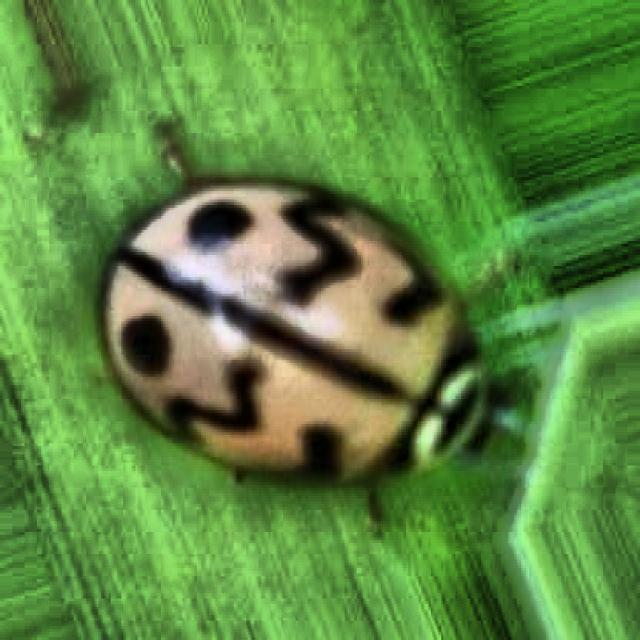Asian-Lady-beetle: (47, 88, 494, 640)
